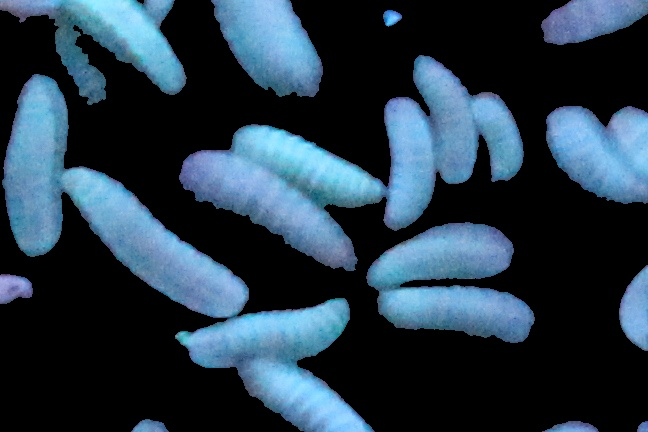larvae: (58, 161, 244, 315), (178, 147, 358, 278), (39, 1, 189, 101), (198, 1, 326, 104), (235, 124, 386, 211), (1, 74, 67, 257), (174, 297, 349, 366), (546, 103, 648, 203), (241, 363, 378, 432), (367, 222, 514, 286), (378, 286, 534, 341), (412, 51, 474, 188), (381, 96, 434, 233), (539, 1, 646, 52), (474, 92, 525, 182), (609, 256, 648, 359), (607, 102, 648, 181)
